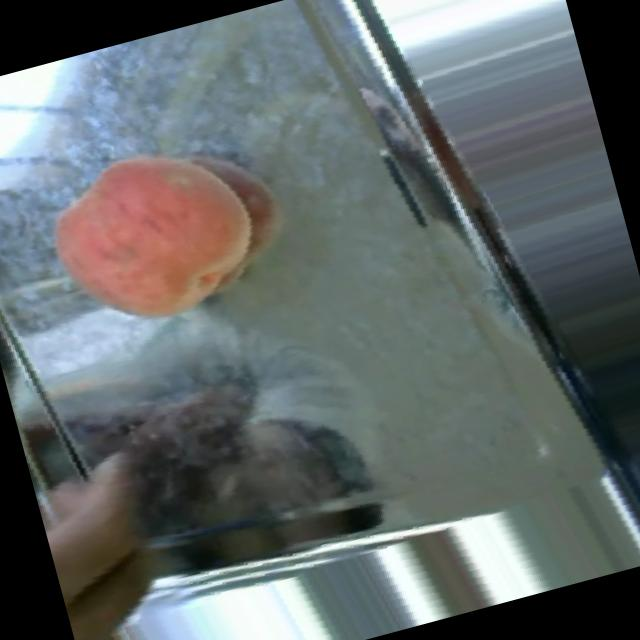Fruit: (12, 106, 294, 364)
